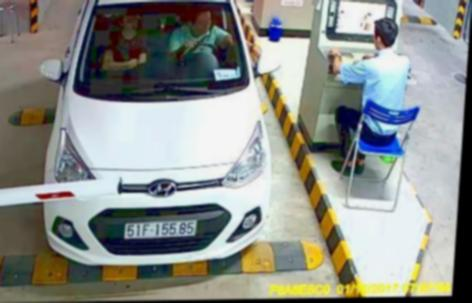License_Plate: (123, 217, 197, 239)
